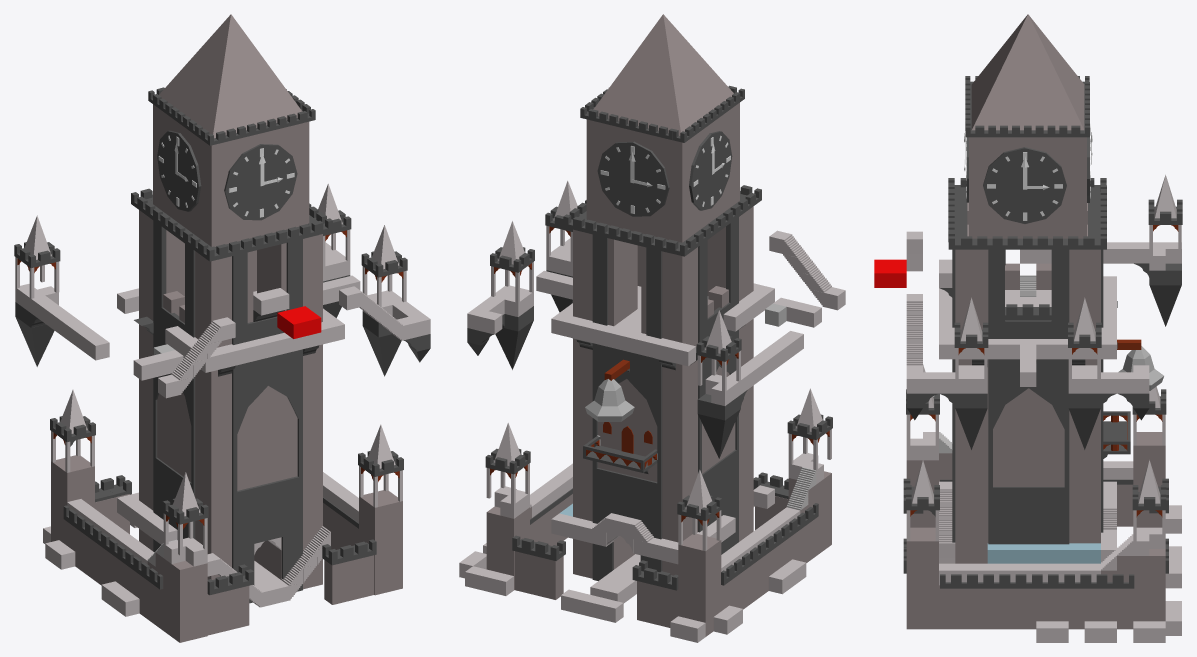
The model's file is level3fin.fbx.
3 views of the same model, side by side, from view 1: azimuth 30°, elevation 25°; view 2: azimuth 150°, elevation 25°; view 3: azimuth 270°, elevation 25° (orthographic). The views are drawn at different scales.
Visible parts, largest first — view 1: Cube__37__1, Cube.142, Window.009, Window.003, Cube.141, Cone.011, Cube__66_, Cube__65_, Cube.119, Cube__70_, Cube__98_.020, Cone.013 (+25 smaller); view 2: Cube__37__1, Cube.142, Window.011, Window.003, Cone.029, Cube.141, Cube__98_.018, Cube__39__1, Cube.119, Cube__70_, Cube__98_.020, Cone.013 (+34 smaller); view 3: Cube__37__1, Cube.142, Window.008, Cube__69_, Cone.009, Cube.119, Cube.141, Cube__98_.017, Cube__98_.069, Cube__66_, Cube__98_.014, Cube__72_ (+31 smaller).
Part boxes in pixels (x1,y1,x2,y2): Cube__37__1: (139, 210, 322, 589); Cube.142: (153, 14, 309, 246); Window.009: (232, 239, 302, 603); Window.003: (153, 220, 195, 552); Cube.141: (63, 475, 376, 595); Cone.011: (224, 144, 297, 220); Cube__66_: (359, 490, 402, 595); Cube__65_: (163, 558, 207, 642); Cube.119: (131, 188, 332, 261); Cube__70_: (67, 522, 163, 630); Cube__98_.020: (15, 284, 109, 360); Cone.013: (157, 130, 201, 211); Cube__37__1: (573, 206, 753, 578); Cube.142: (586, 14, 739, 242); Window.011: (592, 234, 662, 580); Window.003: (698, 217, 738, 554); Cone.029: (597, 141, 669, 216); Cube.141: (512, 472, 818, 590); Cube__98_.018: (551, 286, 695, 366); Cube__39__1: (678, 534, 721, 636); Cube.119: (563, 185, 761, 256); Cube__70_: (721, 518, 816, 610); Cube__98_.020: (705, 331, 803, 405); Cone.013: (689, 131, 732, 210); Cube__37__1: (955, 202, 1100, 563); Cube.142: (969, 14, 1086, 238); Window.008: (988, 249, 1069, 544); Cube__69_: (939, 585, 1133, 629); Cone.009: (983, 147, 1066, 223); Cube.119: (948, 178, 1106, 249); Cube.141: (903, 304, 1168, 588); Cube__98_.017: (939, 303, 1097, 386); Cube__98_.069: (906, 393, 1149, 449); Cube__66_: (906, 527, 938, 629); Cube__98_.014: (939, 563, 1100, 585); Cube__72_: (987, 543, 1100, 563).
Bounding box in the file's own units: 603 × 1150 × 571.
